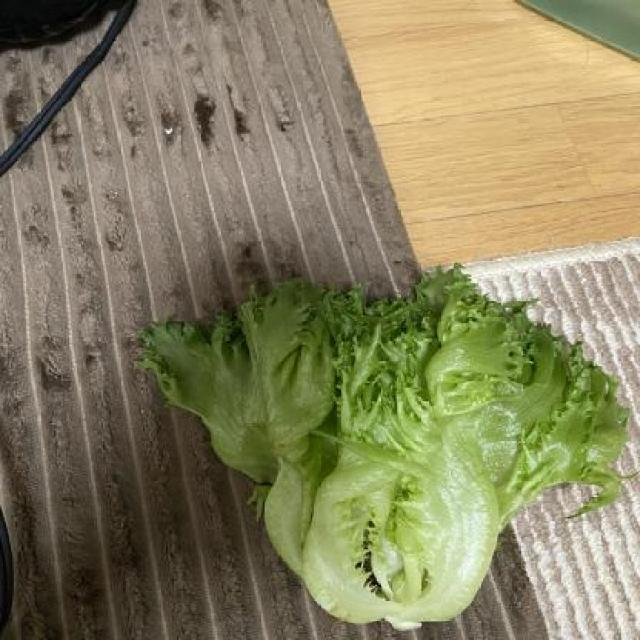lettuce: (129, 258, 634, 634)
